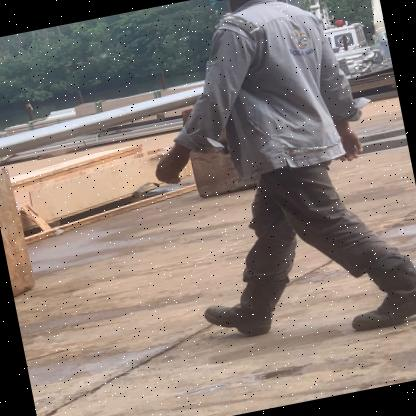bota: (328, 245, 416, 337), (195, 270, 298, 345)
